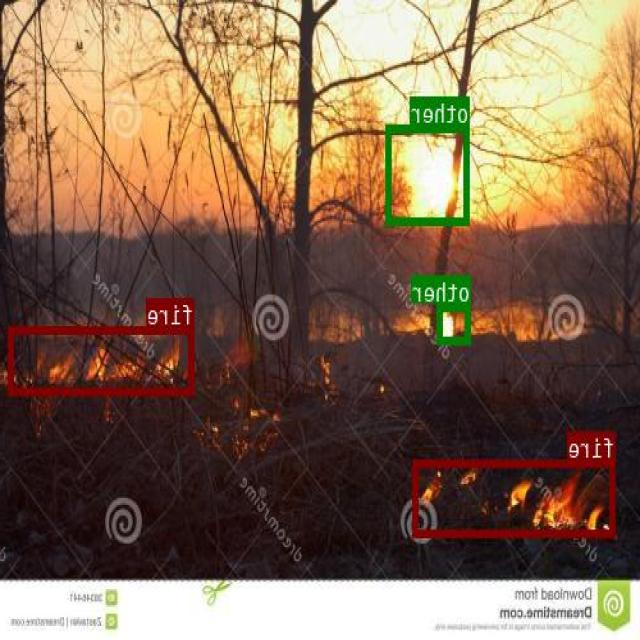fire: (414, 458, 616, 536), (9, 326, 195, 394)
other: (388, 123, 470, 224), (438, 302, 472, 343)
